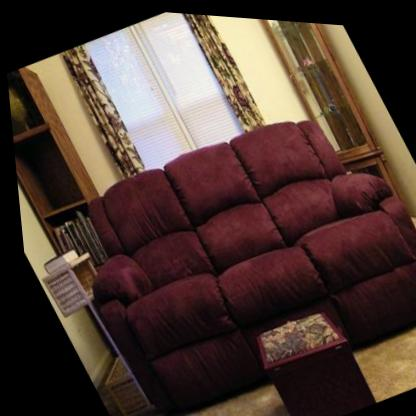Sofa: (30, 66, 416, 416)
